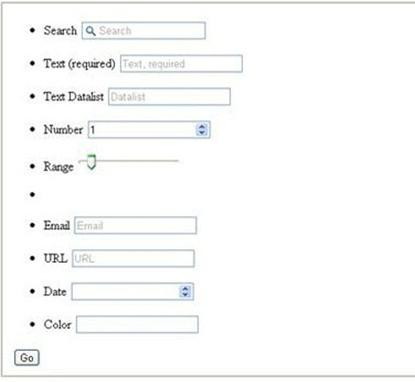button: (14, 349, 39, 366)
field: (105, 86, 232, 107), (69, 249, 196, 270), (117, 53, 244, 73), (71, 215, 197, 235), (86, 120, 211, 140), (80, 21, 207, 40), (74, 315, 200, 334), (70, 282, 195, 301)
field_with_label: (44, 51, 245, 75), (43, 85, 233, 108), (44, 118, 213, 142), (43, 19, 210, 42), (45, 248, 198, 272), (44, 280, 196, 303), (43, 314, 201, 336), (44, 214, 199, 236)
